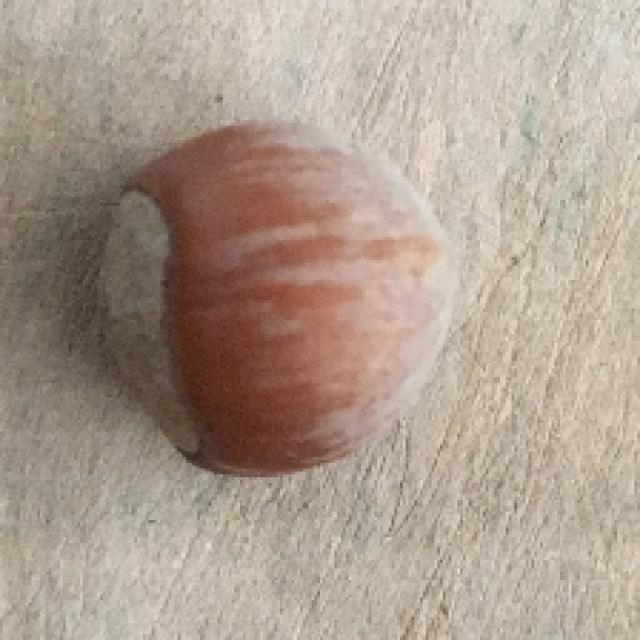qualityHazelnut: (94, 124, 446, 492)
